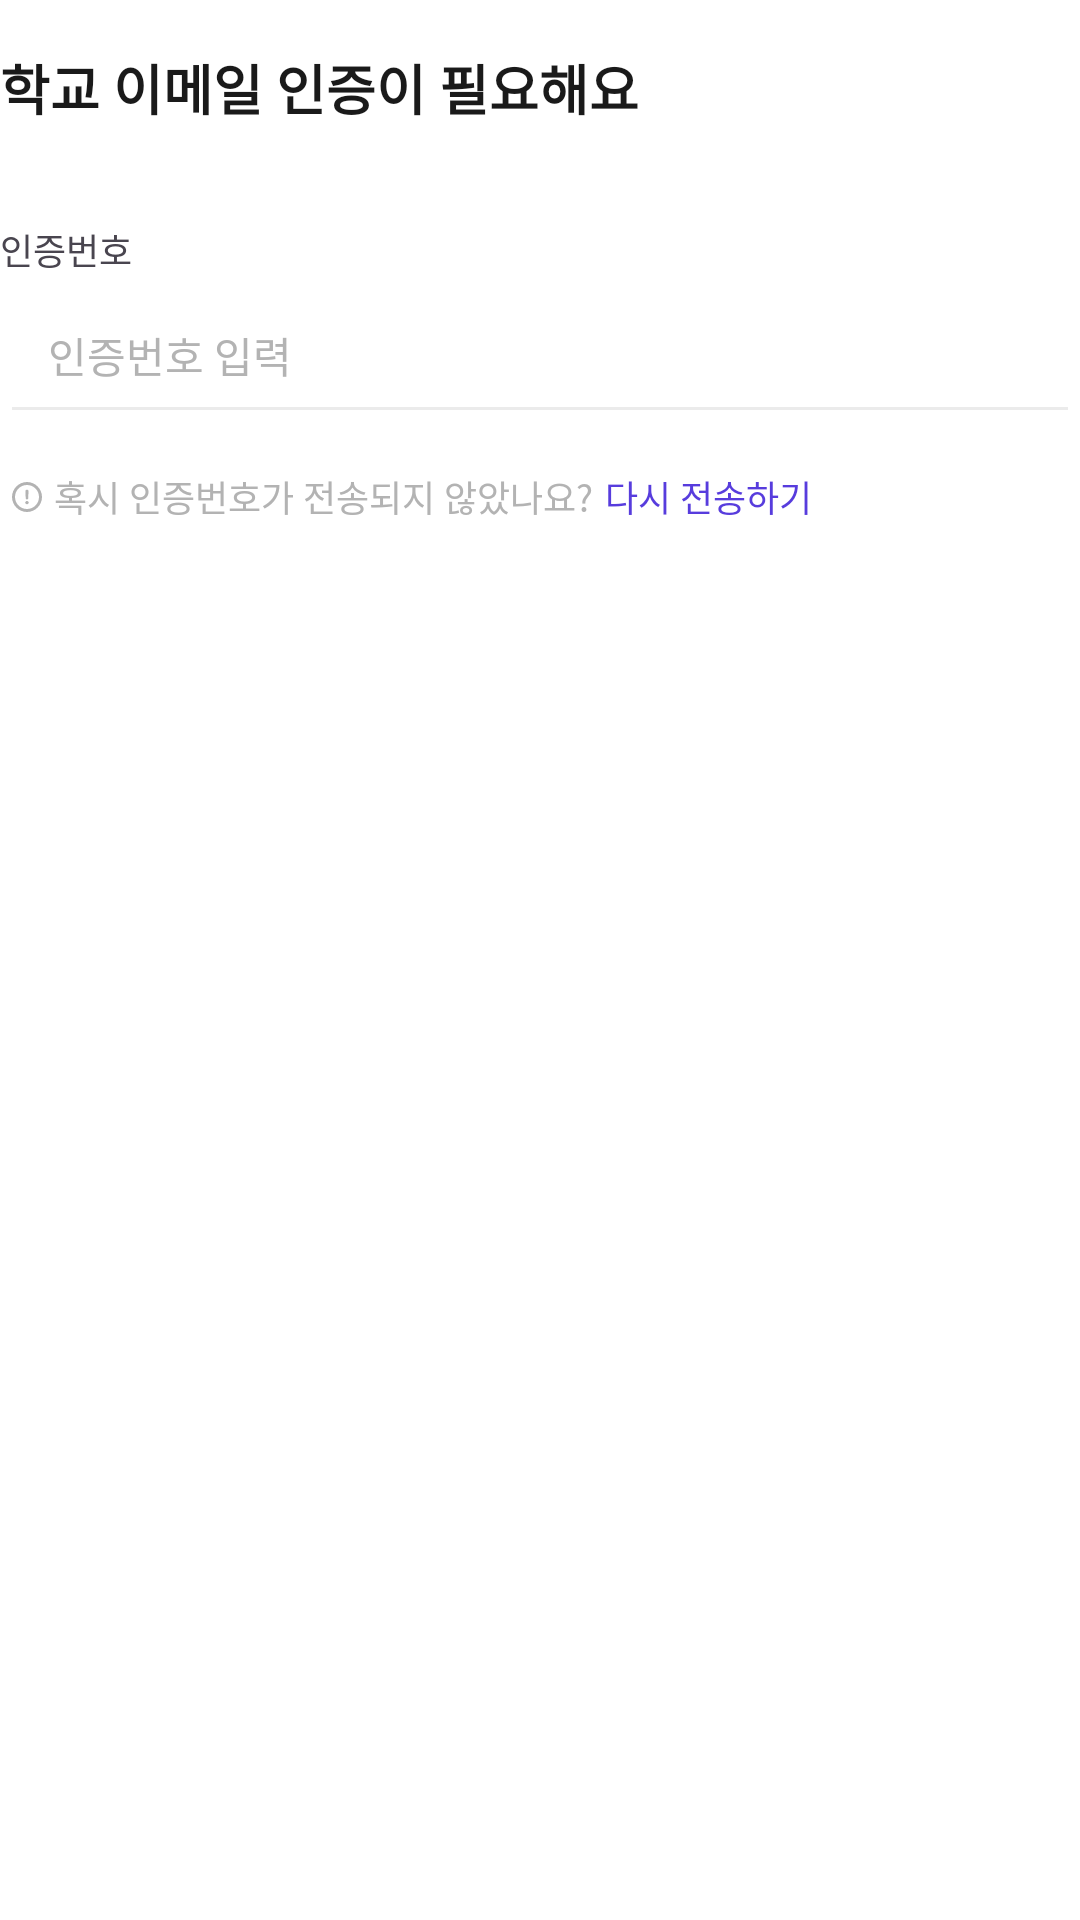

Icons on this 1080×1920 Android screen, each with the point to tap as point (x, y):
info: point (27, 497)
